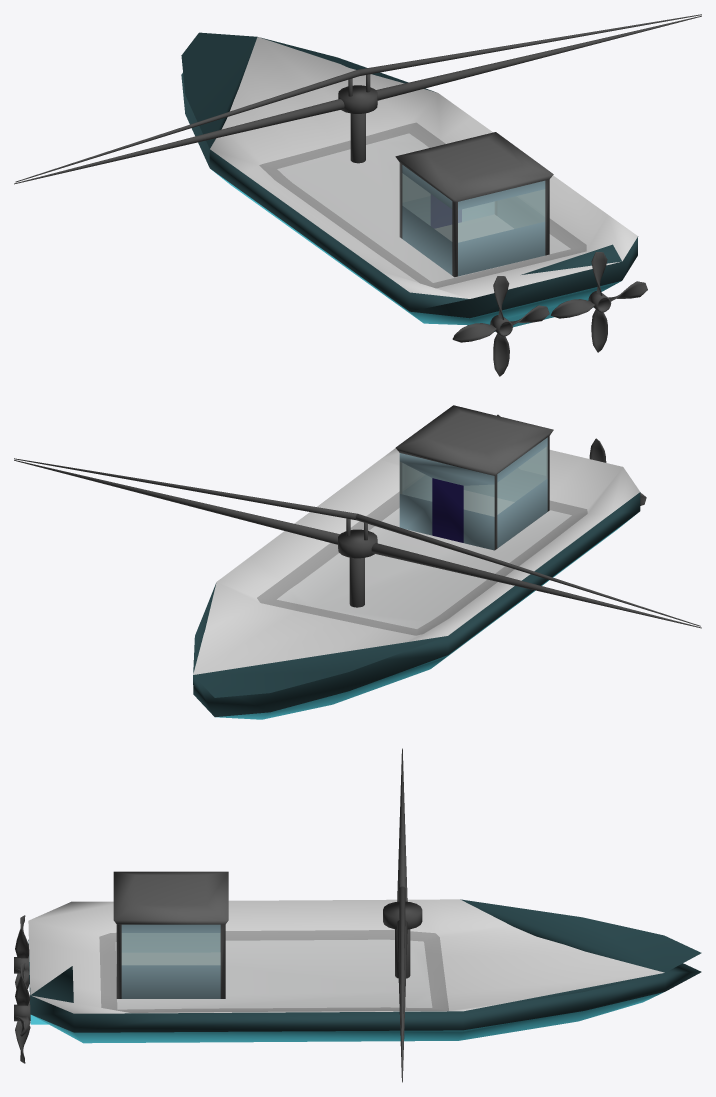
File: dispersership.fbx
3 renders of one model, top to bottom at view 1: azimuth 30°, elevation 25°; view 2: azimuth 150°, elevation 25°; view 3: azimuth 270°, elevation 25°, orthographic.
Visible parts, largest first — view 1: polySurface35, polySurface34, polySurface44, polySurface33, polySurface28, polySurface31, polySurface26; view 2: polySurface35, polySurface34, polySurface44; view 3: polySurface35, polySurface34, polySurface44.
Part boxes in pixels (x1,y1,x2,y2): polySurface35: (181,32,638,331); polySurface34: (395,132,553,277); polySurface44: (14,14,701,184); polySurface33: (551,299,594,318); polySurface28: (452,323,496,342); polySurface31: (591,309,607,352); polySurface26: (493,333,509,376); polySurface35: (193,448,640,719); polySurface34: (395,405,553,550); polySurface44: (14,458,701,628); polySurface35: (28,899,701,1043); polySurface34: (113,871,228,998); polySurface44: (383,748,422,1082).
Bounding box in the file's own units: 7.94 × 1.69 × 6.95.
